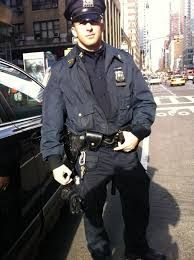gun: (58, 123, 91, 170)
uniform: (52, 54, 154, 243)
